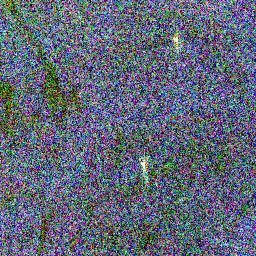Ship: (169, 31, 182, 55), (137, 153, 148, 181)
